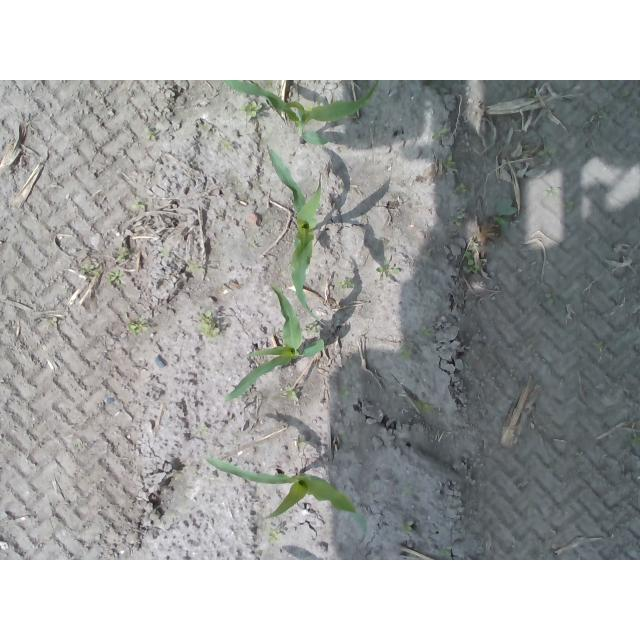Maize: (225, 288, 325, 401), (270, 143, 329, 329), (222, 80, 380, 146), (207, 459, 357, 522)
Weeds: (198, 312, 220, 337), (494, 205, 515, 231), (461, 250, 479, 274), (238, 99, 258, 118), (447, 207, 466, 225), (127, 321, 148, 337), (430, 128, 450, 141), (442, 154, 458, 170), (416, 399, 433, 414), (375, 266, 401, 275), (108, 271, 123, 286), (79, 262, 97, 274), (306, 321, 320, 336), (538, 146, 554, 158), (338, 385, 350, 400), (116, 247, 129, 259), (399, 521, 413, 532), (454, 183, 468, 193), (287, 390, 298, 401), (132, 201, 146, 209)
